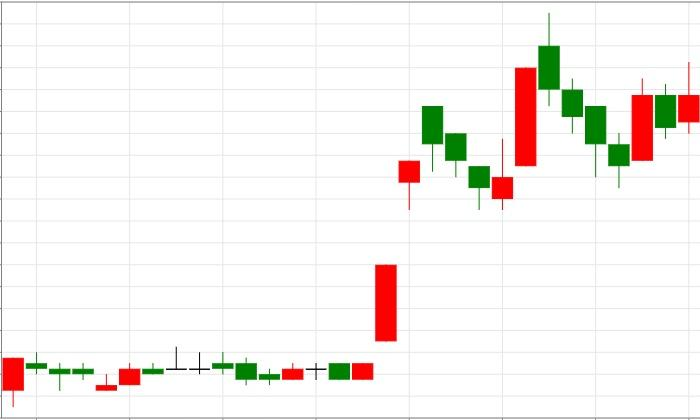inverse_hammer_rise: (422, 105, 513, 209)
